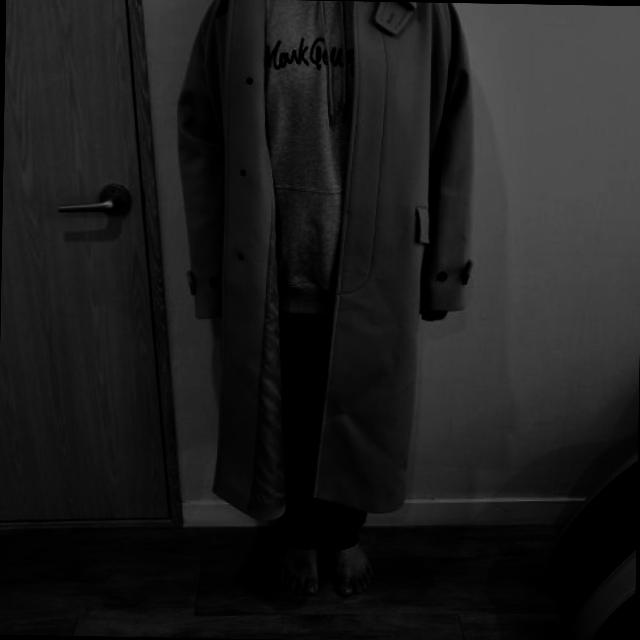coat: (169, 0, 476, 524)
hoodies: (256, 0, 407, 316)
slacks: (270, 312, 376, 552)
